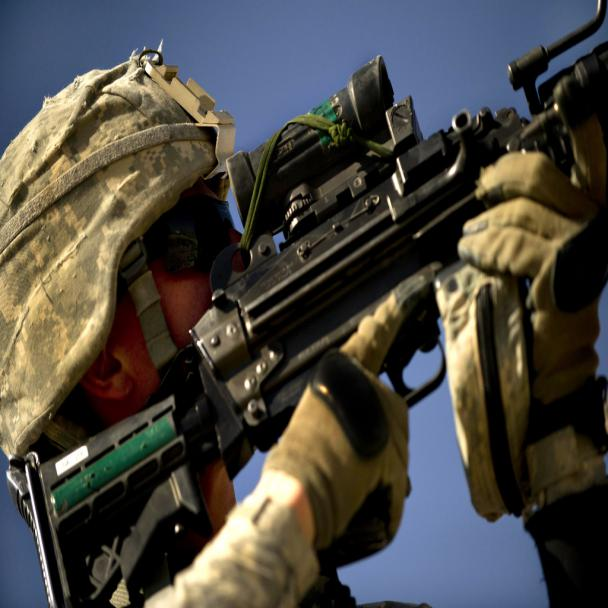Gun: (24, 18, 608, 544)
Hand: (442, 70, 607, 532), (271, 265, 440, 571)
